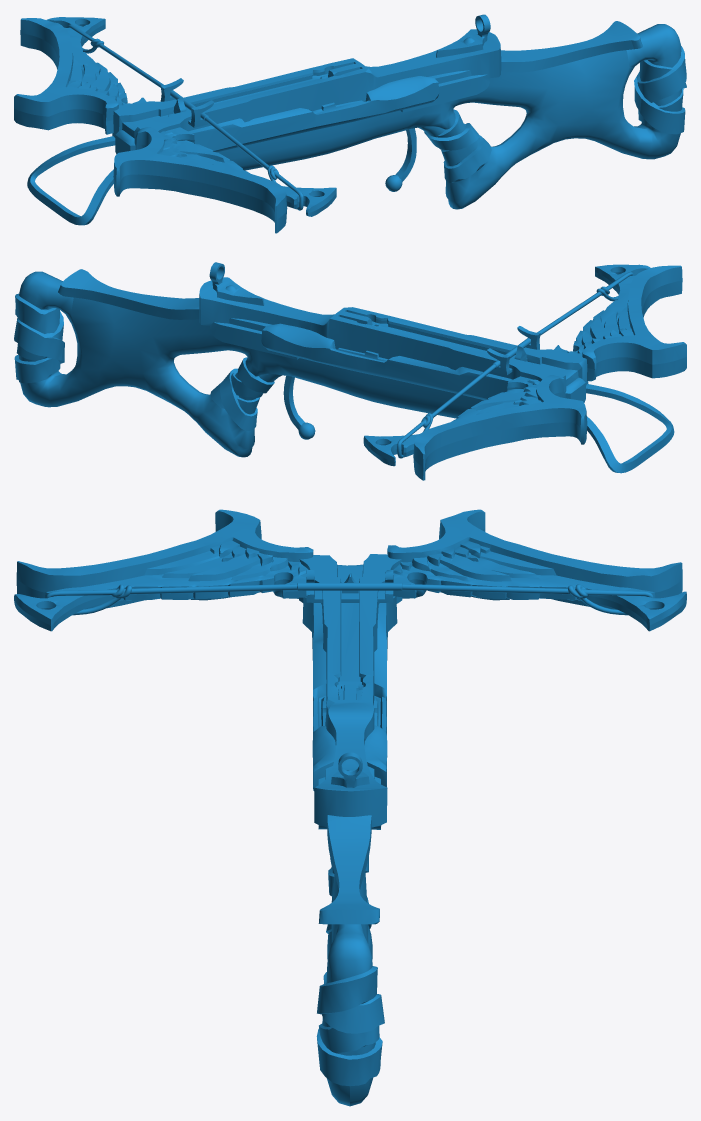
The model's file is SM_Rune_Crossbow_2.obj.
The picture shows the model from 3 angles, top to bottom: view 1: azimuth 30°, elevation 25°; view 2: azimuth 150°, elevation 25°; view 3: azimuth 270°, elevation 25°; orthographic projection. The views are drawn at different scales.
Bounding box in the file's own units: 1090 × 306 × 776.
